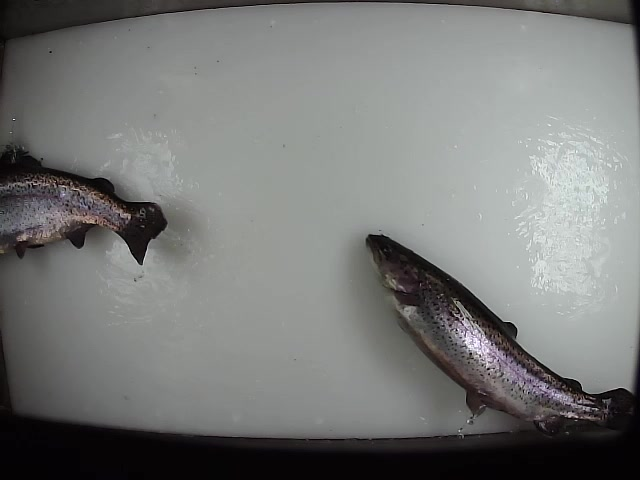fish: (364, 229, 640, 445), (1, 140, 170, 267)
